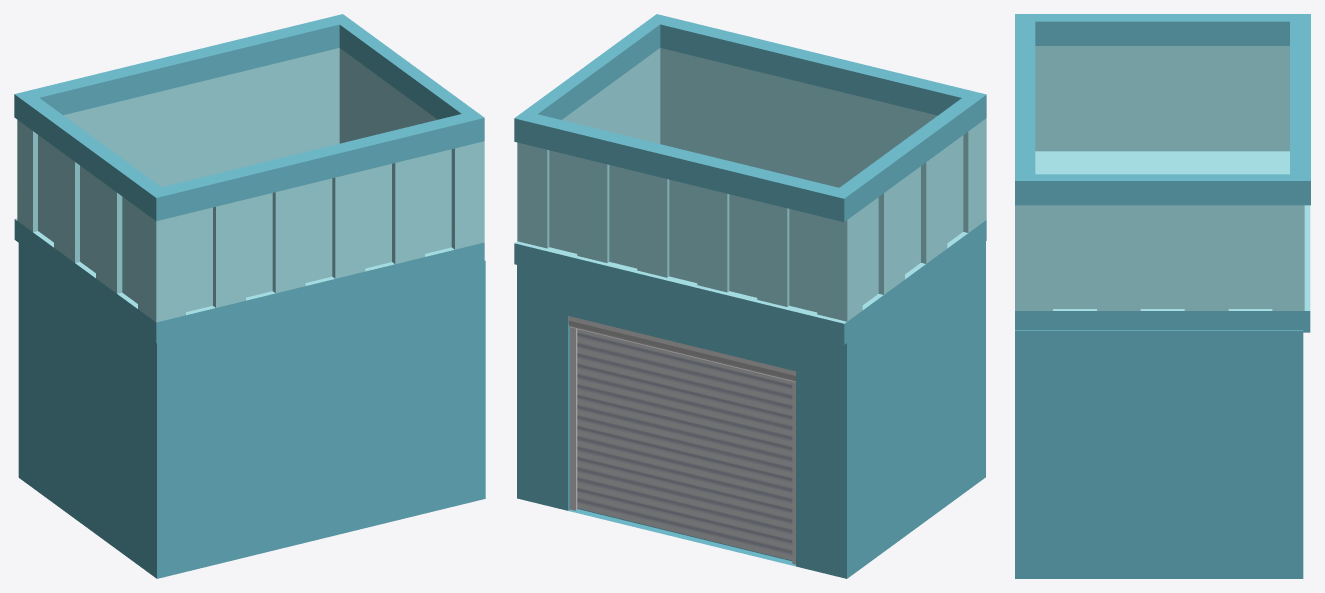
File: closedsmallshop.fbx
3 renders of one model, left to right at view 1: azimuth 30°, elevation 25°; view 2: azimuth 150°, elevation 25°; view 3: azimuth 270°, elevation 25°, orthographic. The views are drawn at different scales.
Visible parts, largest first — view 1: Roof.003, closedsmallshop; view 2: Roof.003, closedsmallshop, Cube.371, Cube.365, Cube.363, Cube.370; view 3: Roof.003, closedsmallshop.
Boxes of the visible parts, x1,y1,x2,y2 form: Roof.003: (14, 14, 484, 343); closedsmallshop: (18, 243, 485, 578); Roof.003: (514, 14, 986, 344); closedsmallshop: (517, 241, 985, 578); Cube.371: (577, 329, 792, 560); Cube.365: (568, 316, 795, 382); Cube.363: (570, 327, 577, 510); Cube.370: (792, 381, 795, 564); Roof.003: (1015, 14, 1310, 332); closedsmallshop: (1015, 330, 1303, 578).
Bounding box in the file's own units: 8.69 × 9.61 × 6.48.
Materials: 4 (1 with a texture image).
